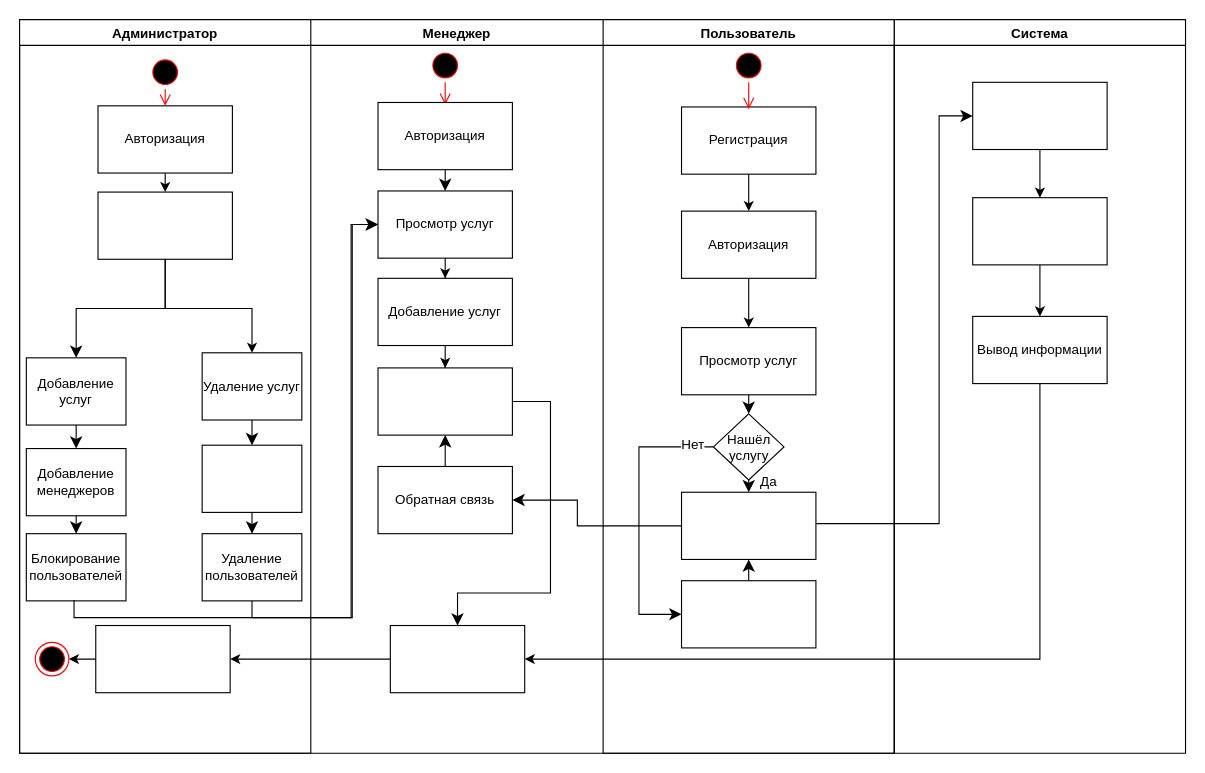
Image size: 1205x773. Some labels were removed from this diagram. Here are the shapes that lost their labels. From the top down, the centre of each, then its label:
At pixel 1039 115: "Обработка информации".
At pixel 164 225: "Редактирование данных".
At pixel 1039 231: "Занесение в базу данных".
At pixel 444 401: "Предоставление услуг".
At pixel 251 478: "Удаление менеджеров".
At pixel 748 525: "Оформление услуг".
At pixel 748 614: "Консультация у менеджера".
At pixel 162 658: "Вывод отчёта".
At pixel 457 658: "Обработка отчёта".
